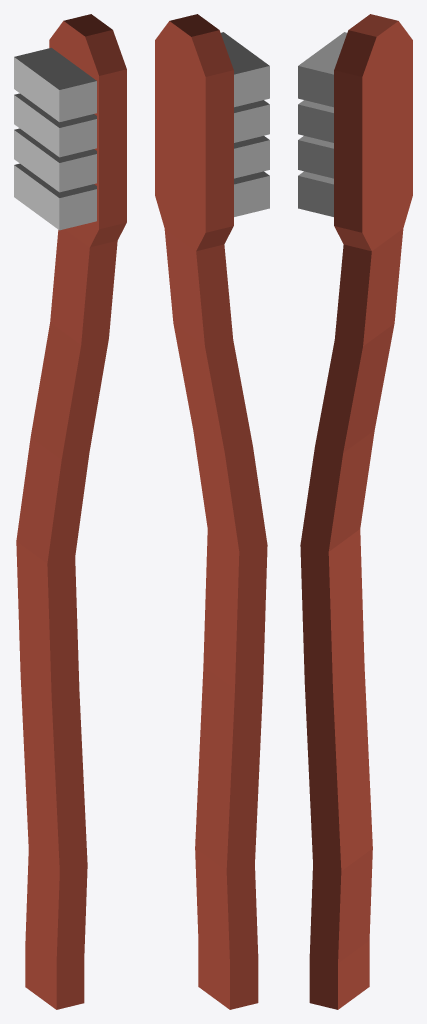
Rendered from Toothbrush.fbx.
3 renders of one model, left to right at view 1: azimuth 30°, elevation 25°; view 2: azimuth 210°, elevation 25°; view 3: azimuth 330°, elevation 25°, orthographic.
Parts seen in each view (by area): view 1: Node 0; view 2: Node 0; view 3: Node 0.
Boxes of the visible parts, x1,y1,x2,y2 form: Node 0: [14, 14, 126, 1009]; Node 0: [155, 14, 269, 1009]; Node 0: [298, 14, 412, 1009].
Bounding box in the file's own units: 0.0252 × 0.2689 × 0.0206.
